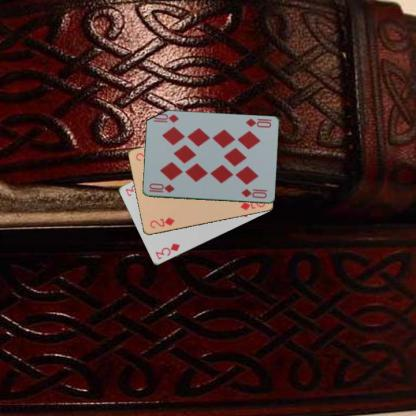10d: (146, 181, 176, 194), (243, 116, 272, 129)
2d: (147, 215, 176, 230)
3d: (152, 241, 181, 261)
